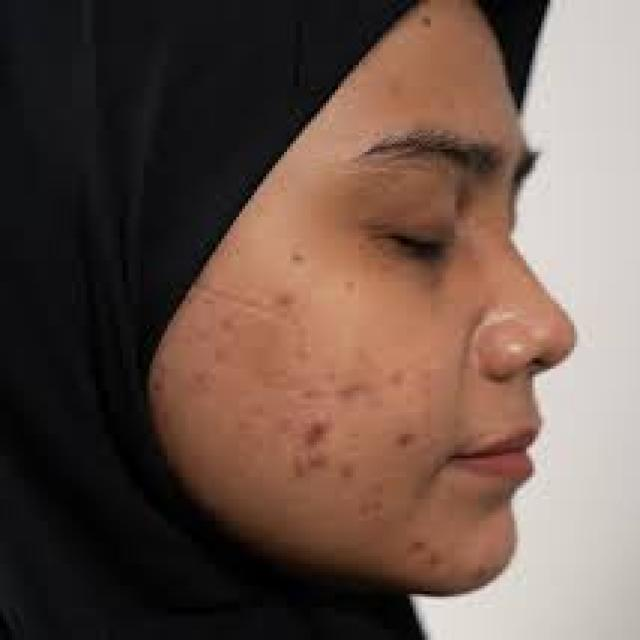Dry-Skin: (290, 410, 340, 459), (193, 336, 239, 388), (260, 293, 310, 334), (329, 372, 407, 398), (413, 78, 480, 108), (284, 247, 327, 268)
